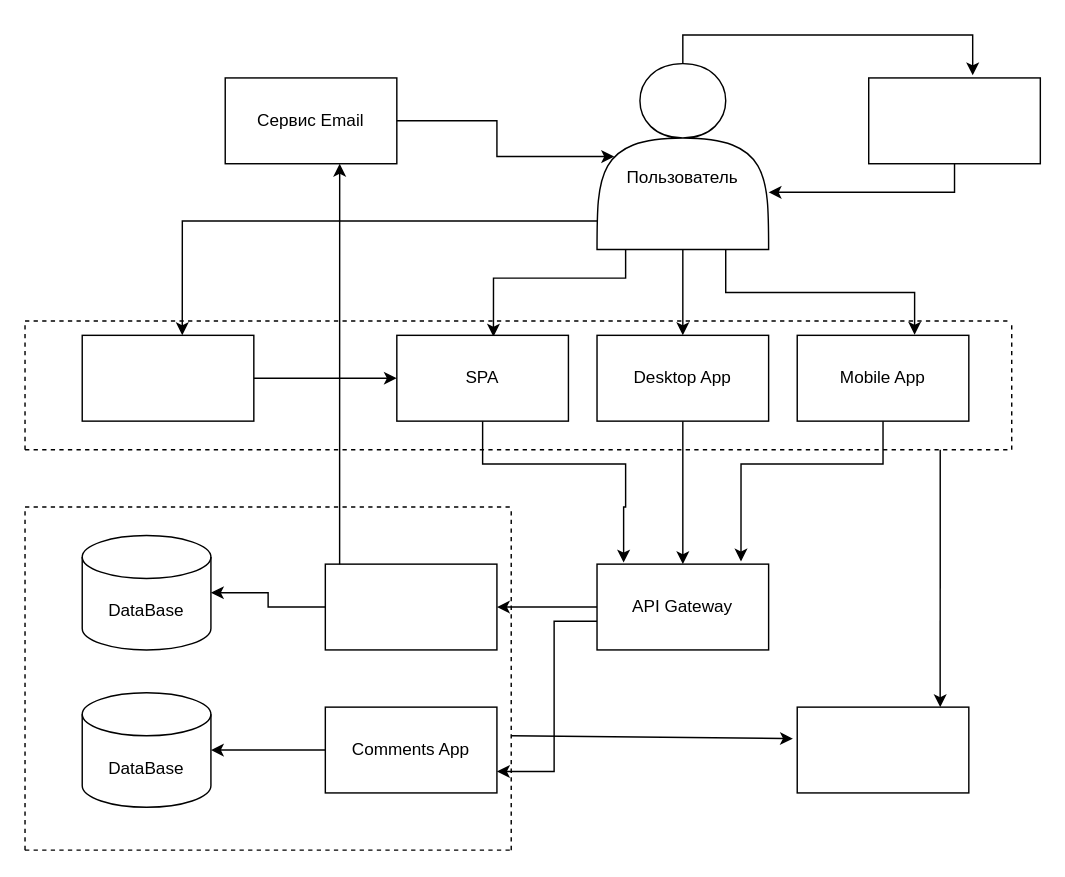
The diagram is 1065 pixels wide and 877 high, and some of its shapes have lost their labels. Each missing label, with the centre of its shape:
Ads App: the point at 410,606
Identity-server: the point at 953,120
Web-server: the point at 167,377
Мониторинг: the point at 882,749
